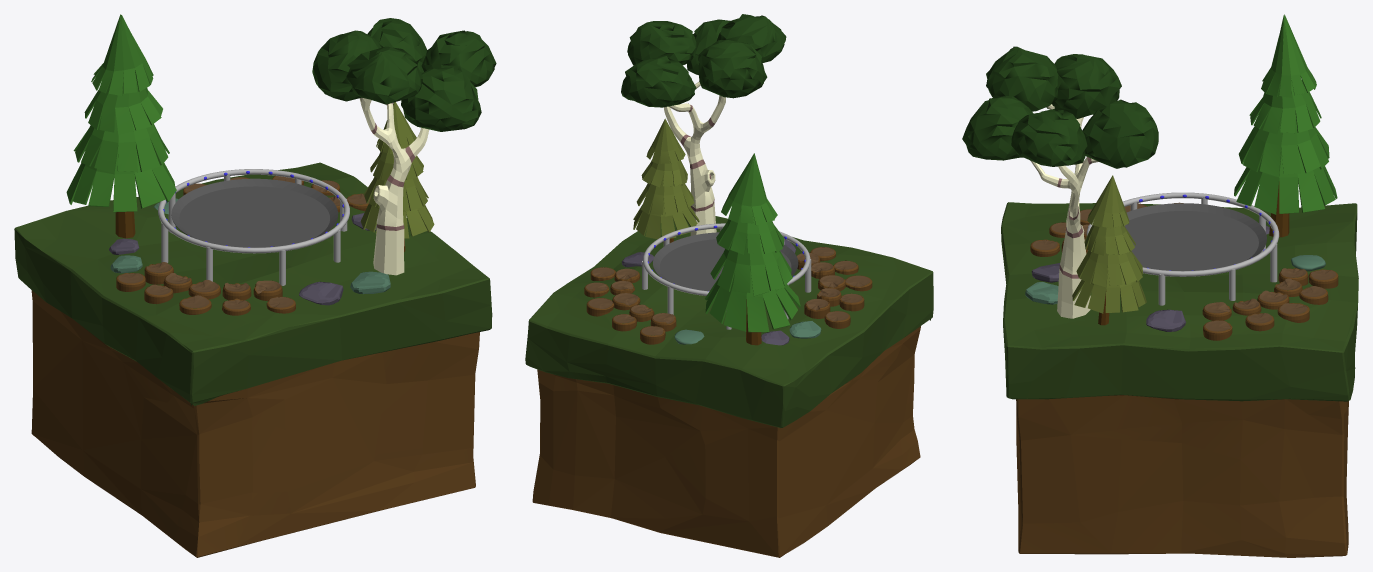
Rendered from tile_trampolin.min.gltf.
The picture shows the model from 3 angles, left to right: view 1: azimuth 30°, elevation 25°; view 2: azimuth 150°, elevation 25°; view 3: azimuth 270°, elevation 25°; orthographic projection. The views are drawn at different scales.
Visible parts, largest first — view 1: CENTERED.022; view 2: CENTERED.022; view 3: CENTERED.022.
Part boxes in pixels (x1,y1,x2,y2): CENTERED.022: (14, 14, 496, 557); CENTERED.022: (525, 14, 933, 557); CENTERED.022: (962, 14, 1358, 557).
Bounding box in the file's own units: 1.15 × 1.55 × 1.2.
